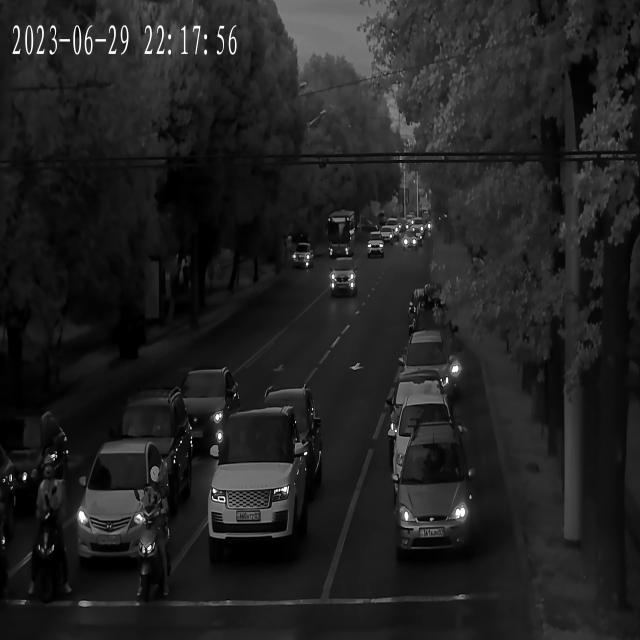Bus: (326, 212, 359, 264)
Car: (208, 406, 304, 574), (102, 390, 190, 530), (78, 446, 170, 566), (398, 425, 478, 562), (254, 381, 324, 494), (0, 406, 66, 524), (392, 385, 460, 498), (178, 366, 240, 459), (396, 332, 456, 404), (327, 258, 359, 306), (292, 242, 314, 272), (368, 231, 383, 258), (404, 231, 419, 251), (381, 227, 396, 242)
